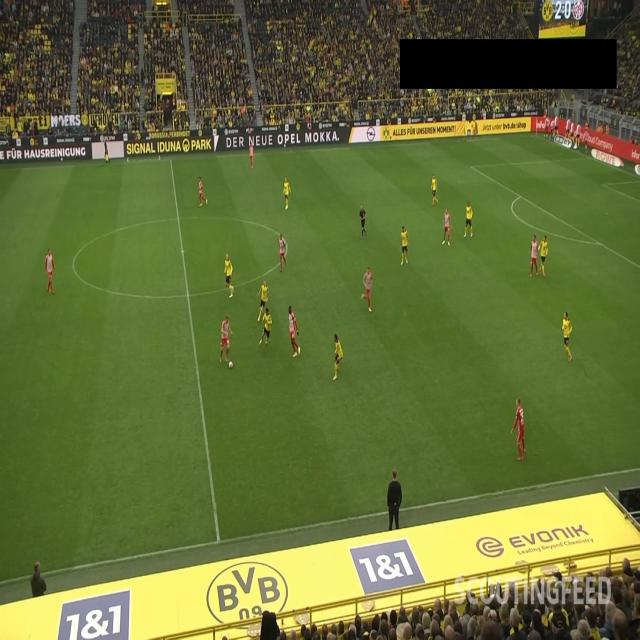ball: (228, 360, 234, 370)
